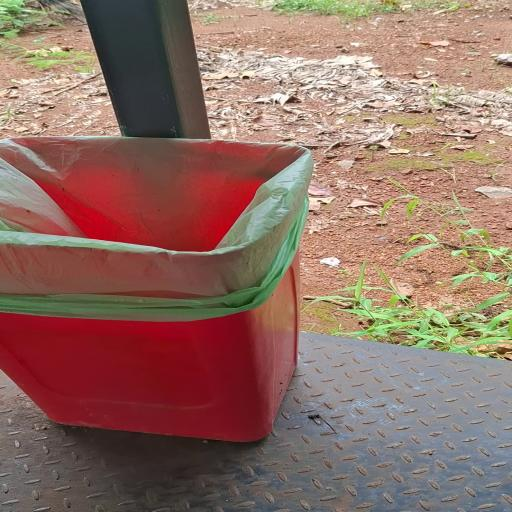Nilkamal-dustbin-detection: (0, 137, 312, 441)
